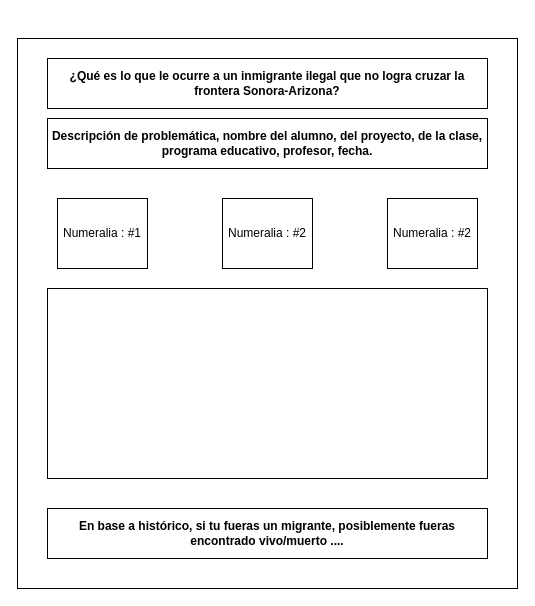
The diagram is 535 pixels wide and 606 high, and some of its shapes have lost their labels. Each missing label, with the centre of its shape:
"KPI" belongs at pixel 267 383.
"Página 1 o sección 1" belongs at pixel 77 27.
